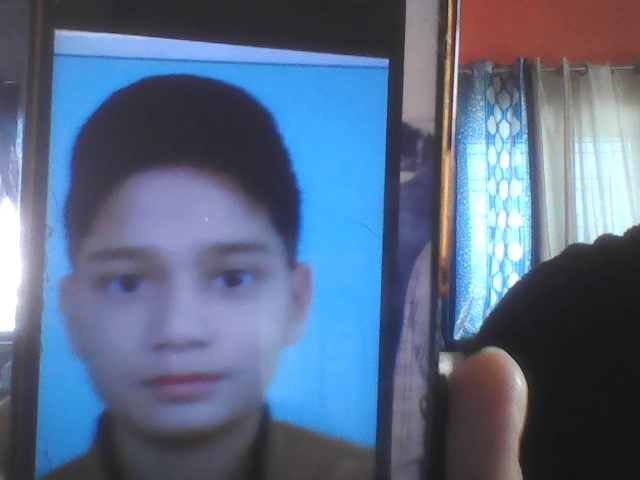fake: (49, 89, 320, 473)
